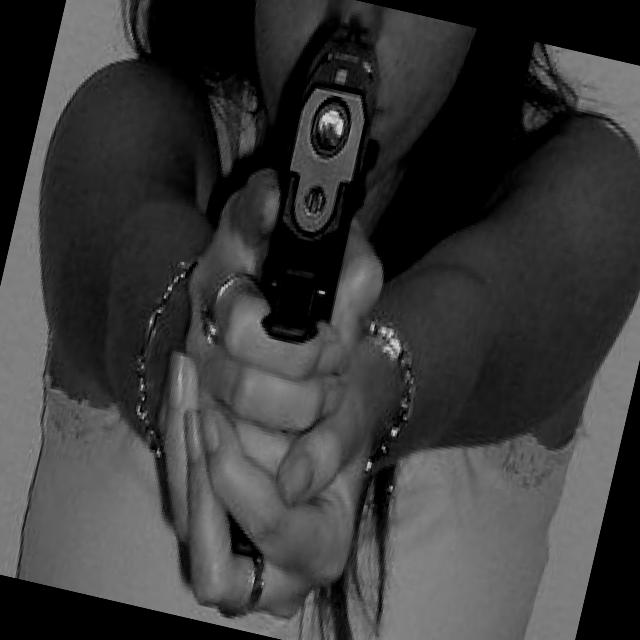handgun: (246, 13, 389, 346)
